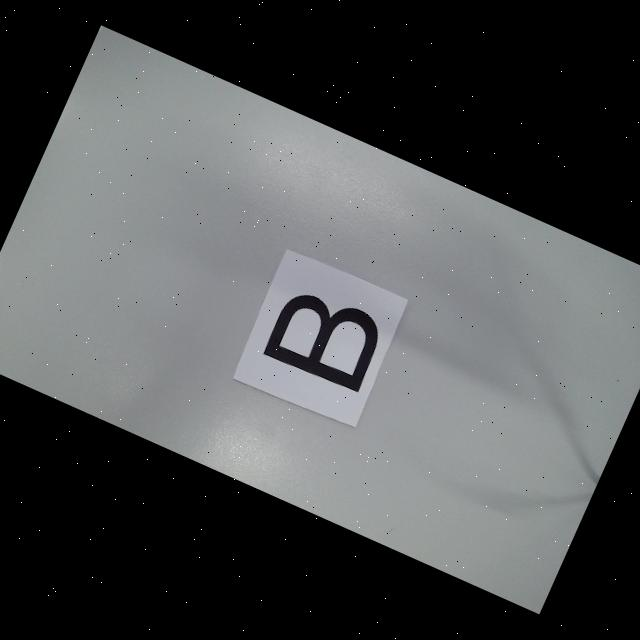FAKE: (263, 282, 389, 396)
